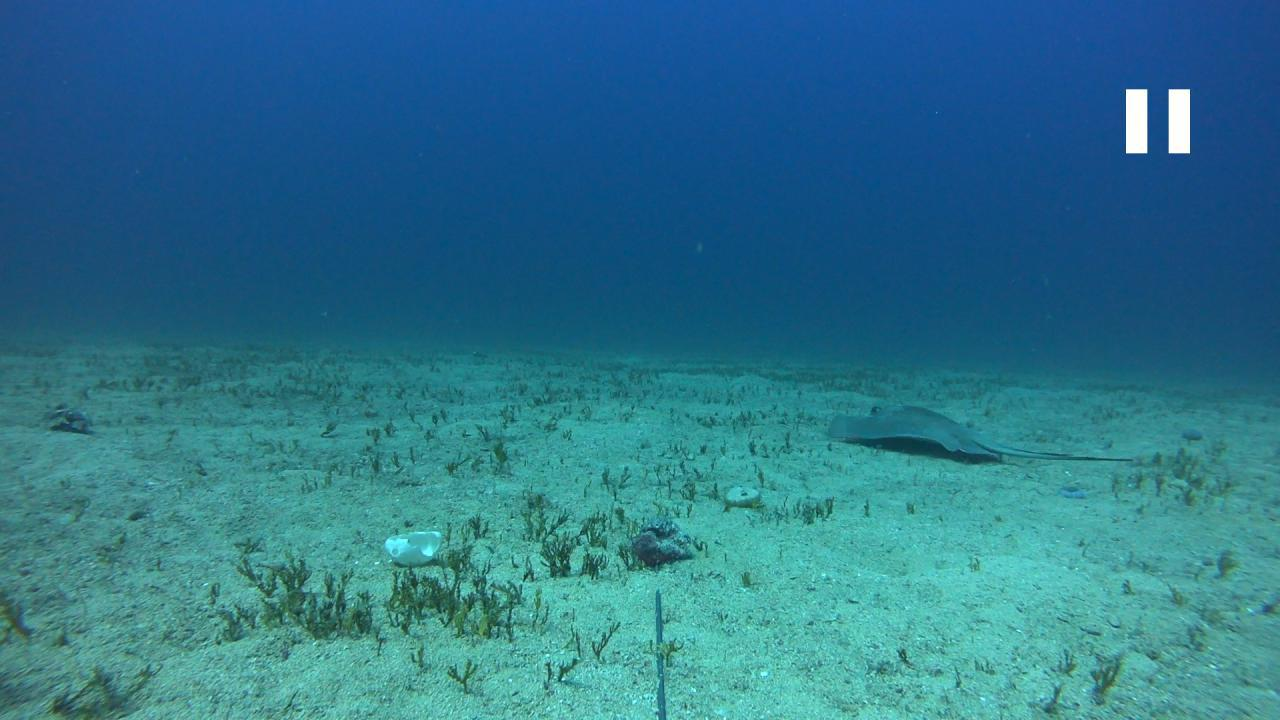dasyatis: (826, 404, 1136, 461)
